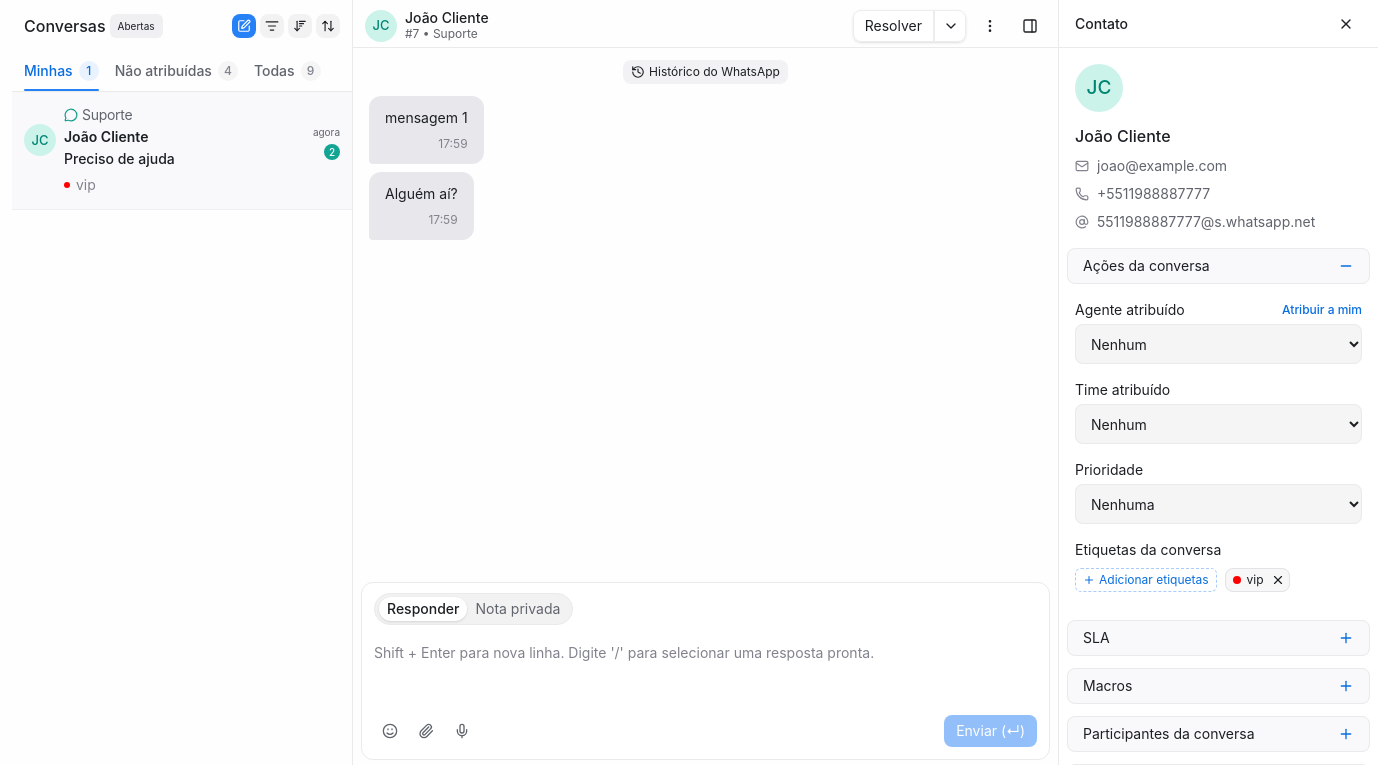
it: conversation header menu › reports failures and hides deletion from agents
Click the button named "Mais ações" at (990, 26), box x1=974 y1=10 x2=1006 y2=42
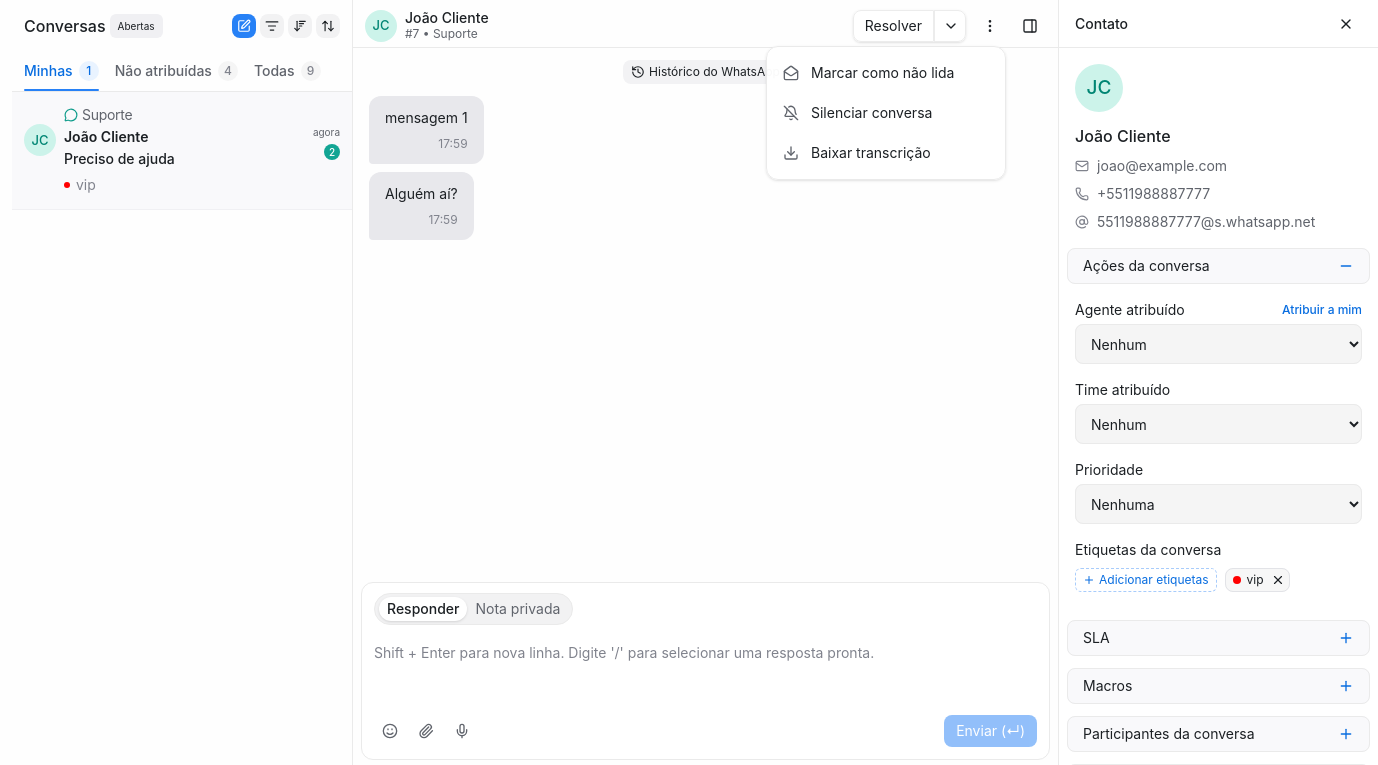
Click the menu item "Baixar transcrição" at (886, 152), box x1=775 y1=134 x2=997 y2=170
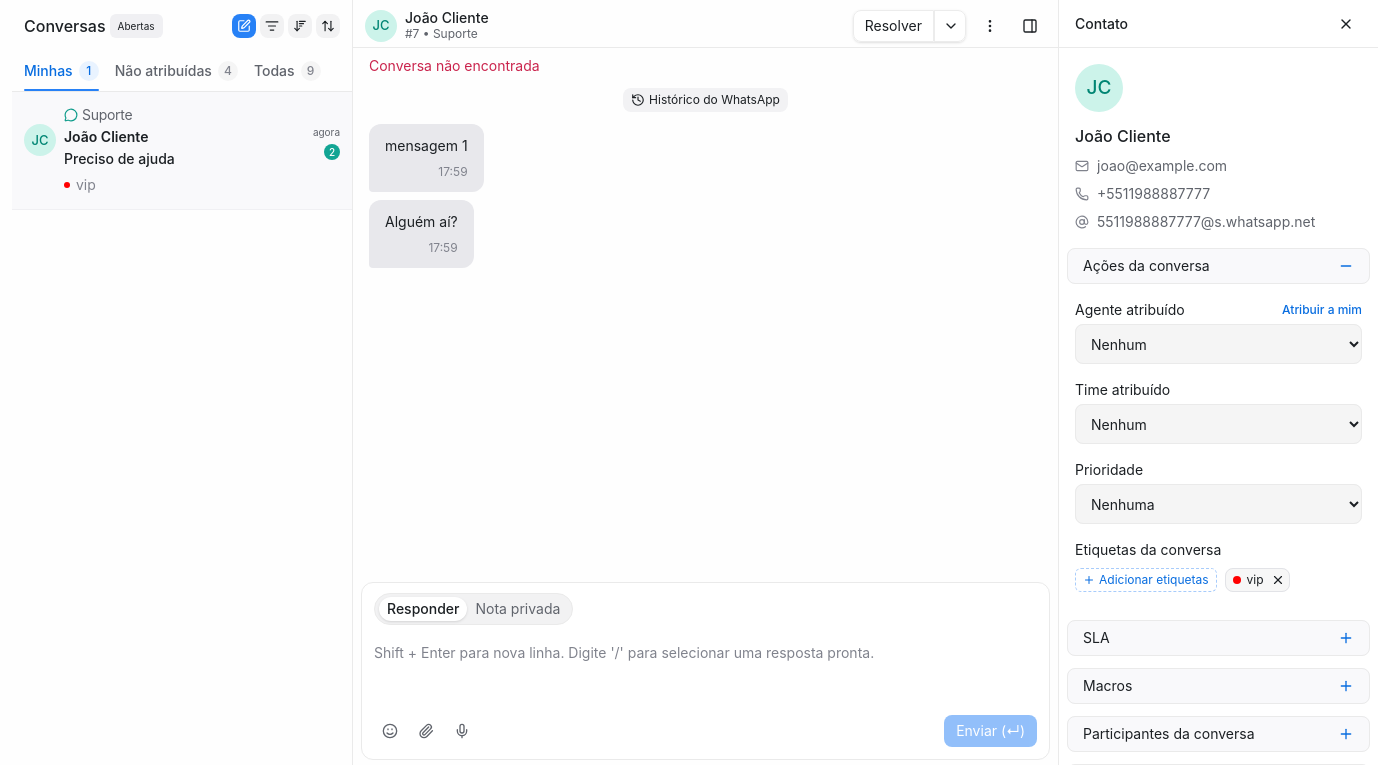
Check: the text "Conversa não encontrada" is shown, box x1=369 y1=57 x2=540 y2=74
